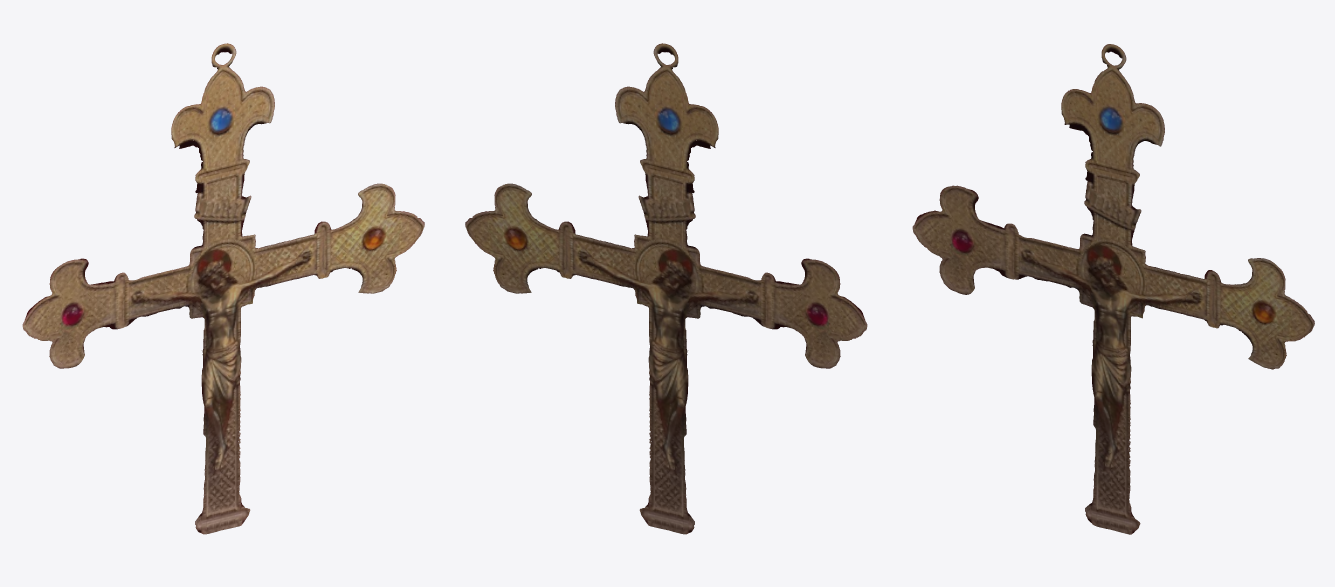
The model's file is wall_cross_4.fbx.
3 renders of one model, left to right at view 1: azimuth 30°, elevation 25°; view 2: azimuth 150°, elevation 25°; view 3: azimuth 330°, elevation 25°, orthographic.
Visible parts, largest first — view 1: wall_cross_04; view 2: wall_cross_04; view 3: wall_cross_04.
Part boxes in pixels (x1=…): wall_cross_04: x1=22, y1=43, x2=424, y2=534; wall_cross_04: x1=465, y1=43, x2=867, y2=534; wall_cross_04: x1=912, y1=44, x2=1314, y2=534.
Size of the model in its own units: 57.6 by 69.41 by 2.58e-05.
